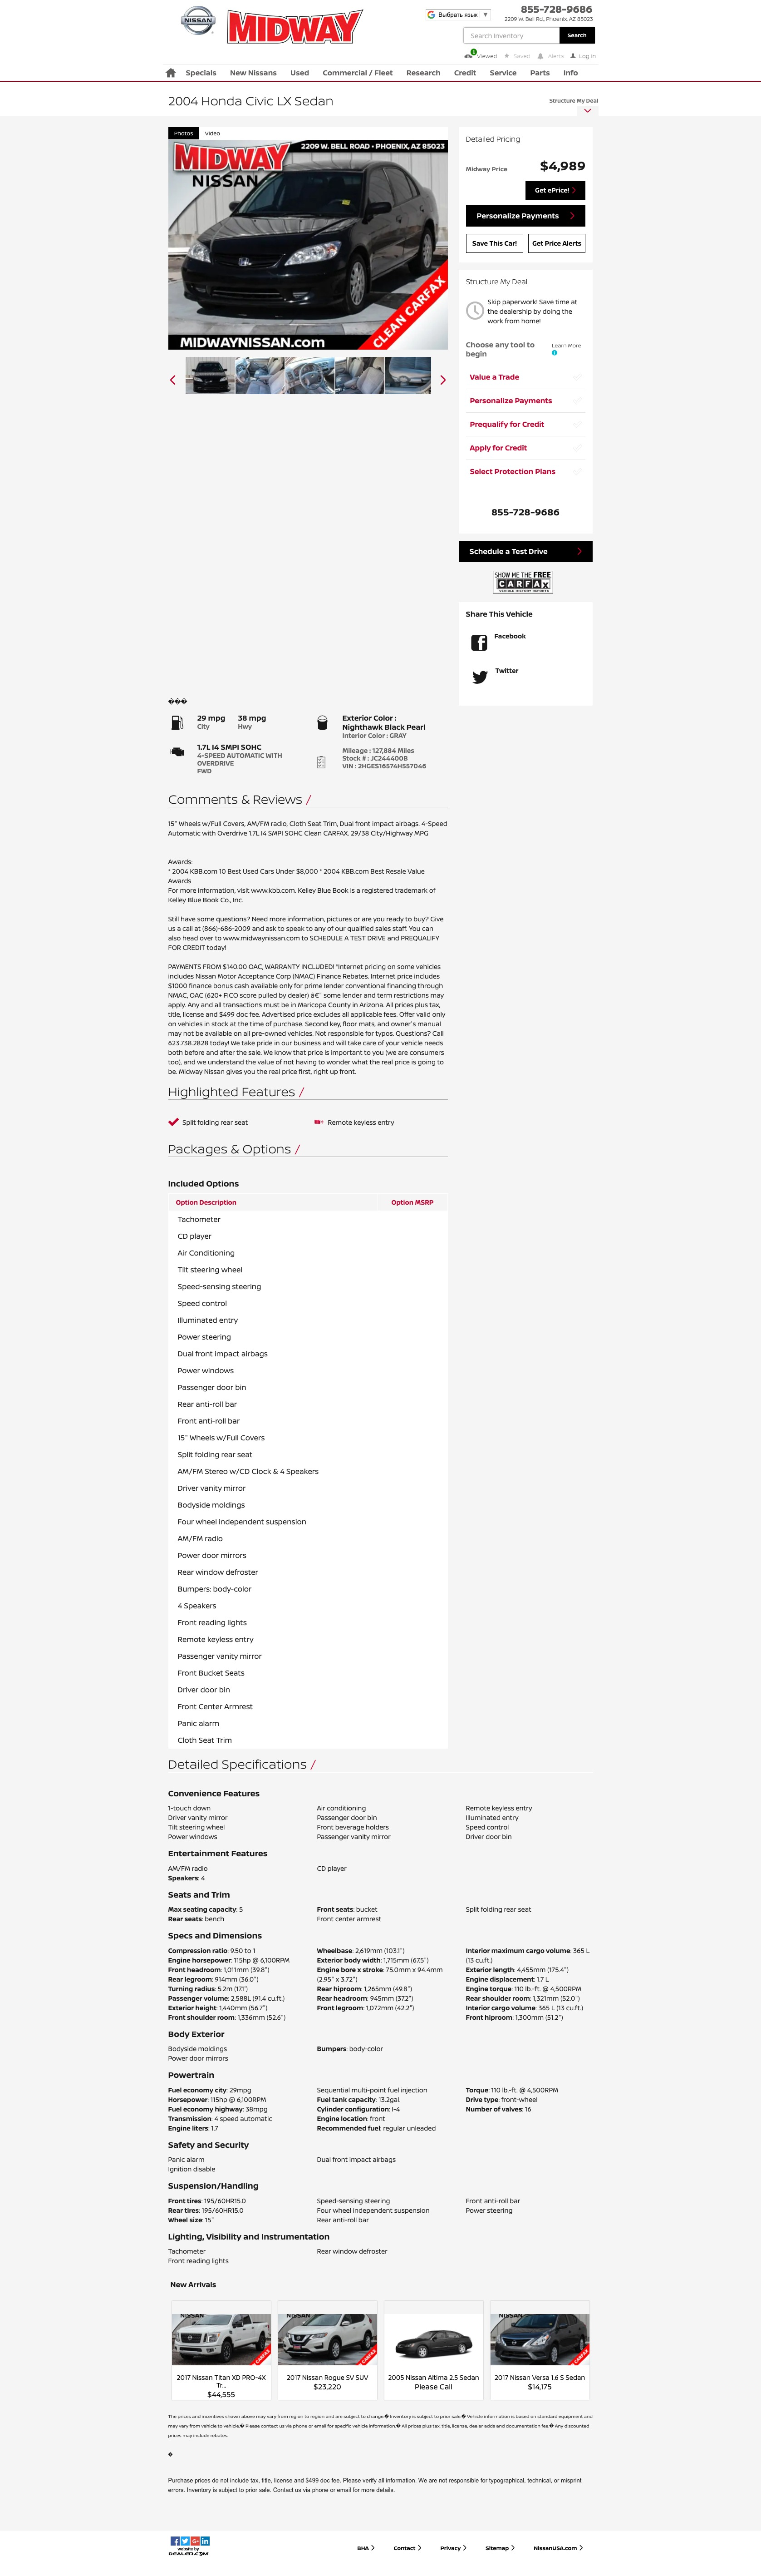car: (440, 375, 448, 388)
